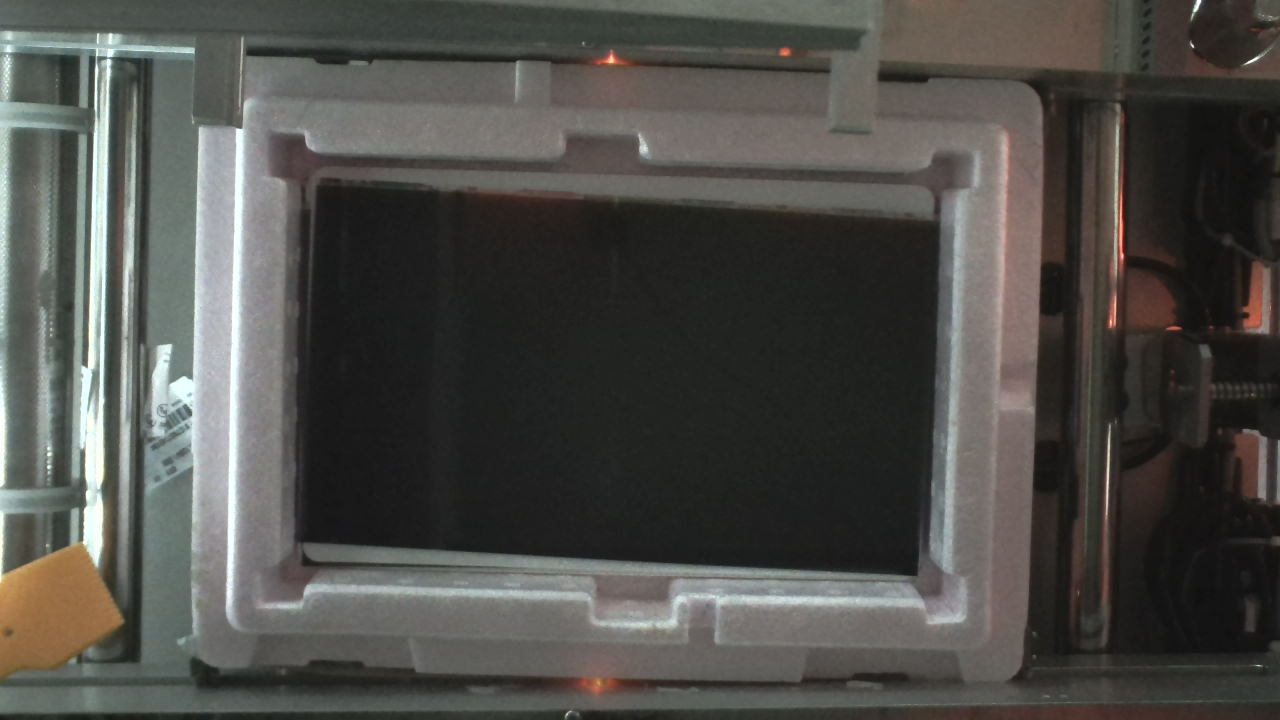OK: (184, 48, 1049, 683)
